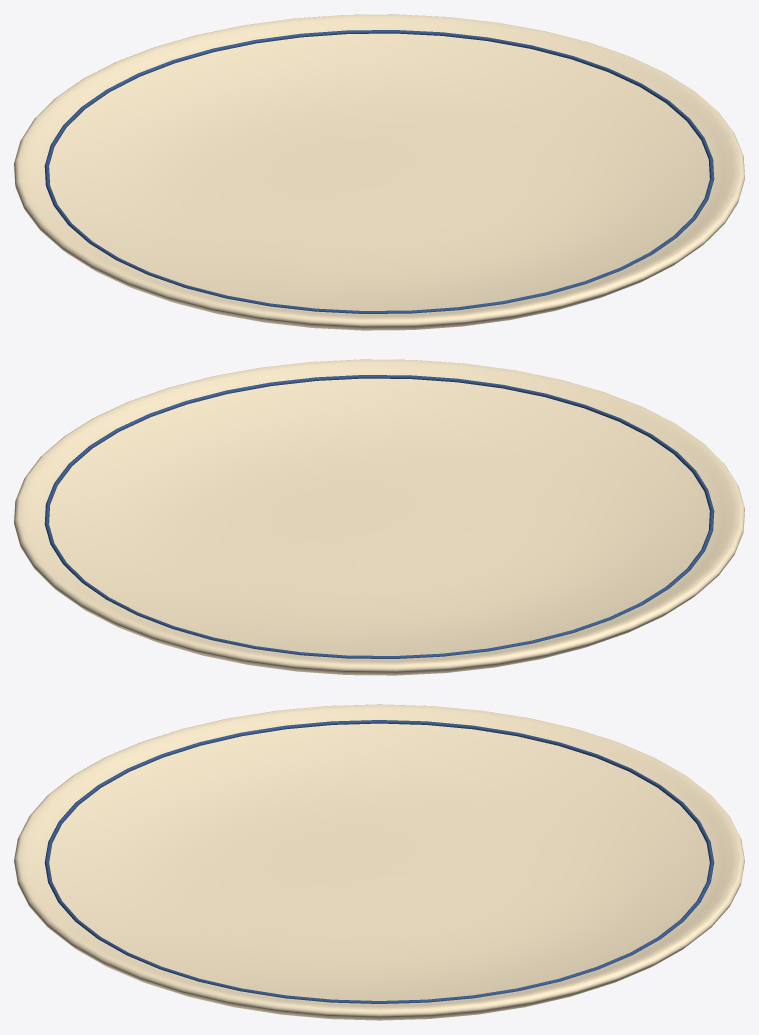
The model's file is dishwasher-plate--5.3-1.glb.
3 renders of one model, top to bottom at view 1: azimuth 30°, elevation 25°; view 2: azimuth 150°, elevation 25°; view 3: azimuth 270°, elevation 25°, orthographic.
Parts seen in each view (by area): view 1: ivory, blue; view 2: ivory, blue; view 3: ivory, blue.
Boxes of the visible parts, left/top/right/bottom form: ivory: left=14, top=14, right=744, bottom=330; blue: left=44, top=30, right=714, bottom=313; ivory: left=14, top=359, right=744, bottom=675; blue: left=44, top=375, right=714, bottom=658; ivory: left=14, top=704, right=744, bottom=1020; blue: left=44, top=720, right=714, bottom=1003.
Size of the model in its own units: 4 by 0.1667 by 4.
